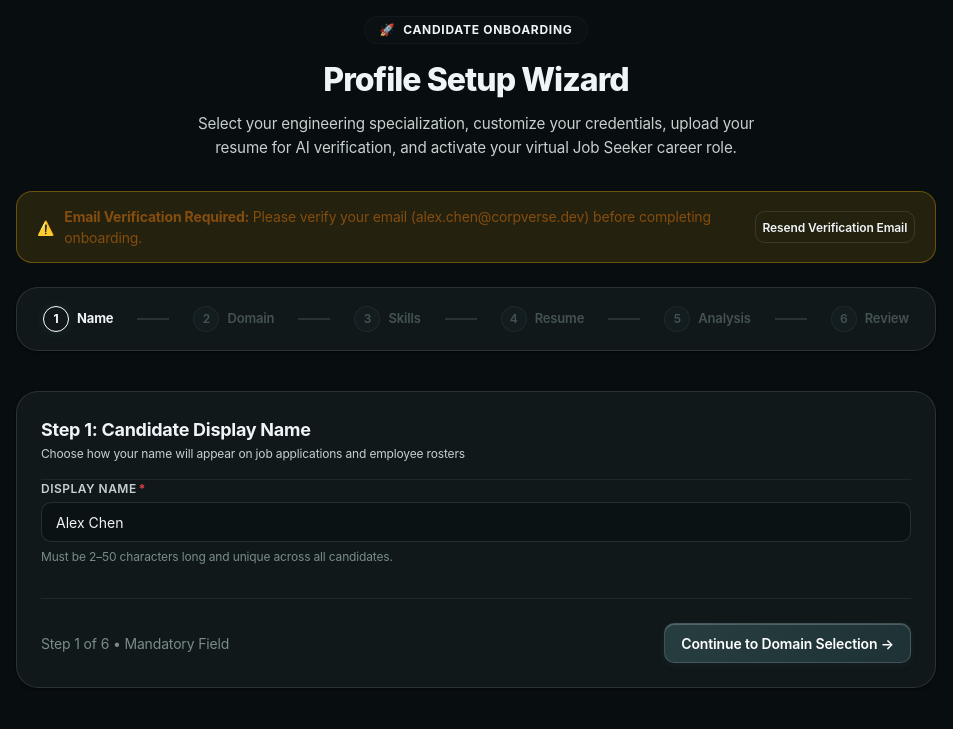
Onboarding Guided Flow Suite › displays warning banner when email is not verified and handles resend action
Expected: the message is shown, [16,191,936,263]
Expected: the text "Email Verification Required:" is shown, [64,208,249,225]
Click the button "Resend Verification Email": (835, 227) [755,211,915,243]
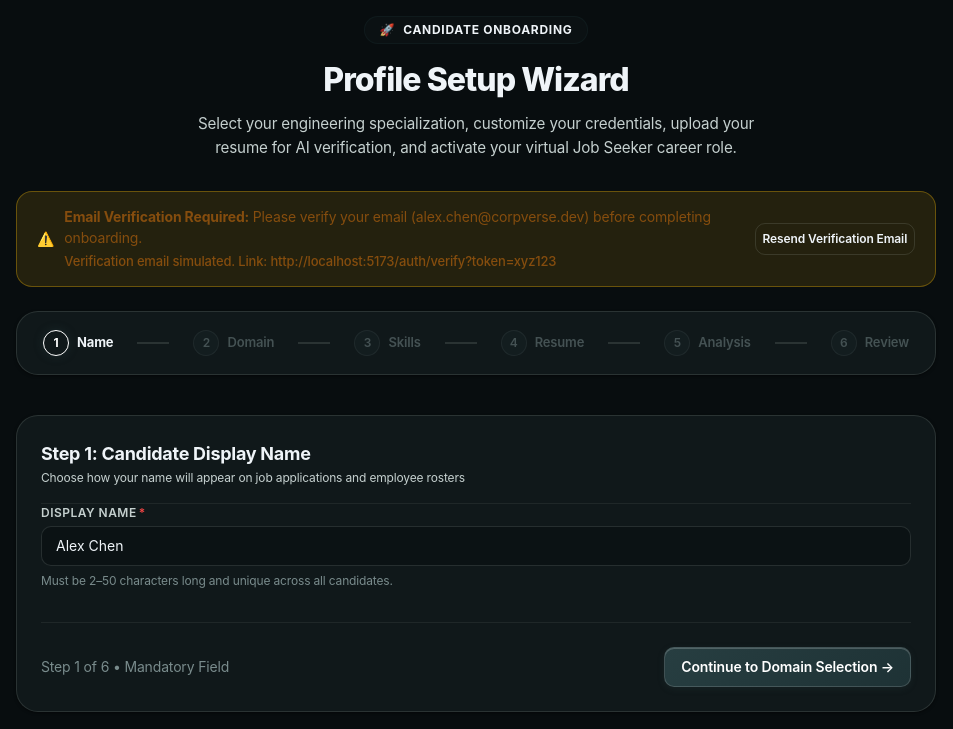
Expected: the text "Verification email simulated" is shown, [64,253,556,269]
